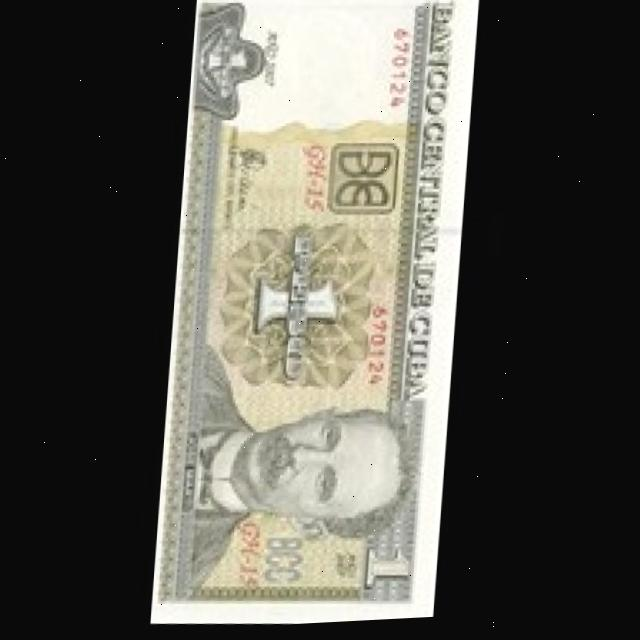banknote: (155, 0, 482, 633)
